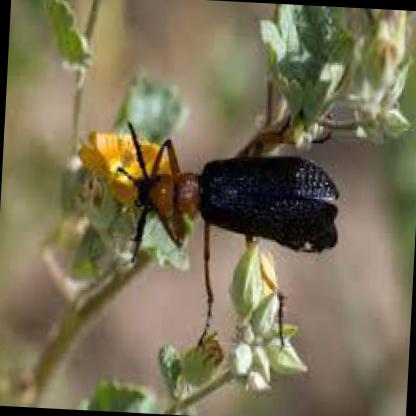blister beetle: (134, 139, 341, 307)
